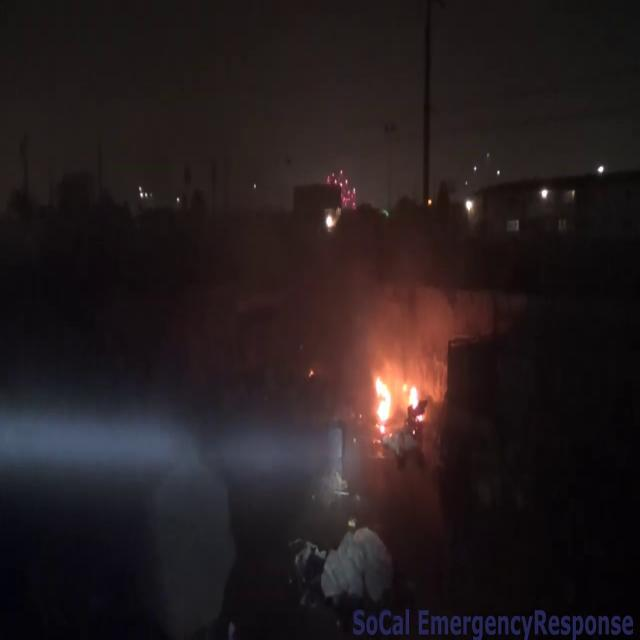Fire: (368, 358, 424, 429)
Smoke: (321, 230, 483, 390)
